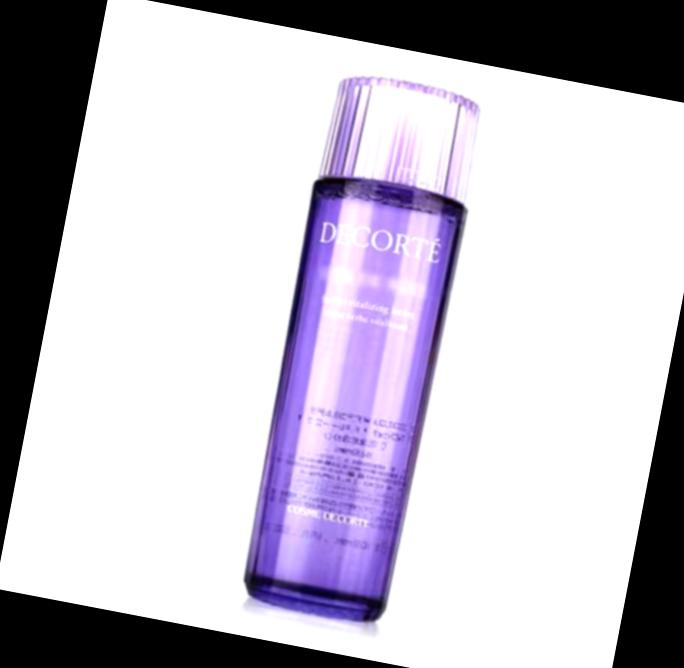cosmetic: (225, 71, 492, 630)
